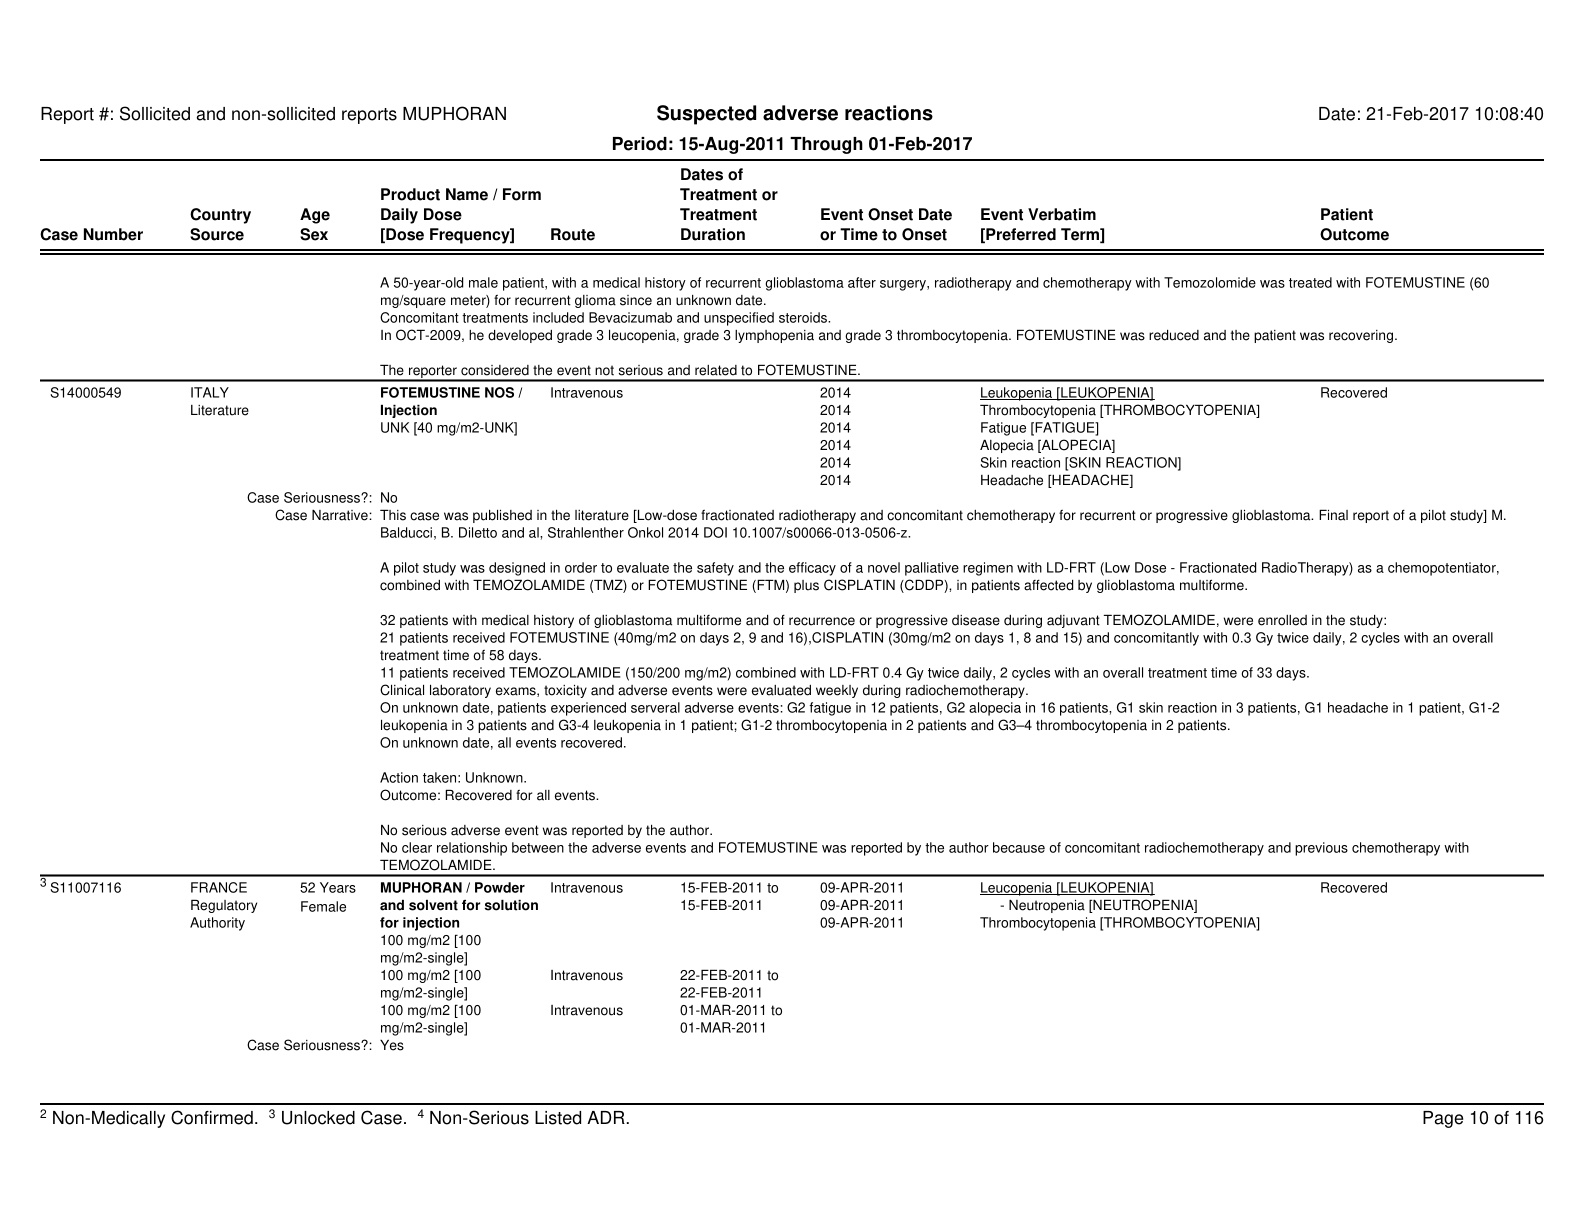partial_lined_merged_cells: (40, 157, 1544, 1058)
